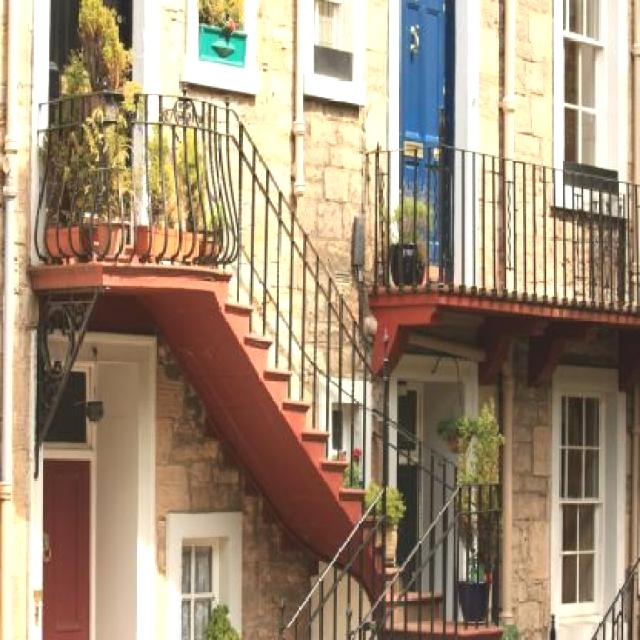stair: (213, 272, 510, 640)
